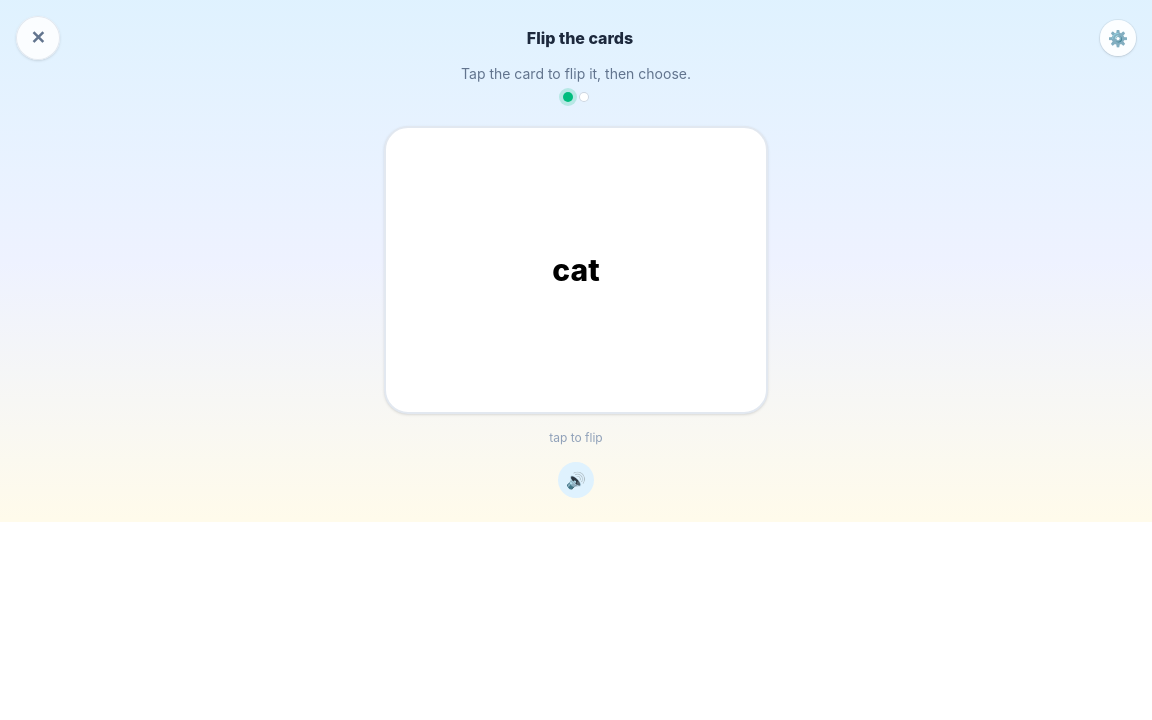
Test: FlashcardScreen › hides the grade row until the card is flipped
Check: the button "again" is not shown
Check: the button "got it" is not shown
// After flipping, both grade buttons appear.
Click the button with aria-label "flip": x=576, y=270 x1=384 y1=126 x2=768 y2=414
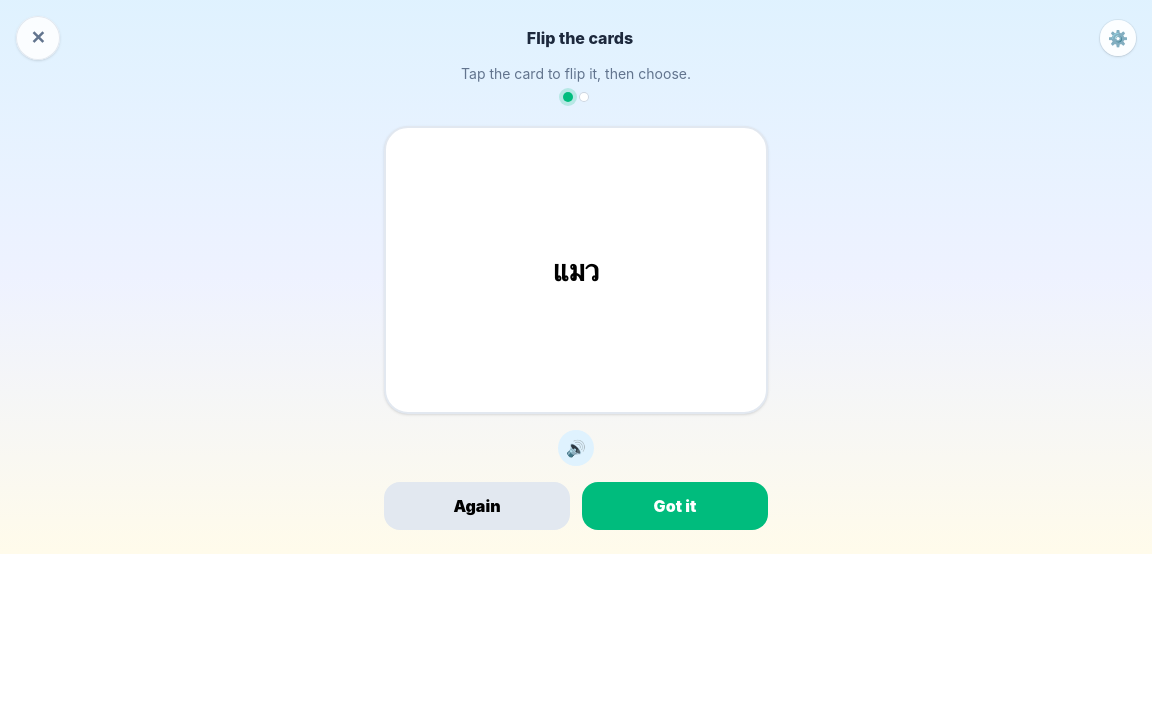
Check: the button "Again" is shown, box x1=384 y1=482 x2=570 y2=530
Check: the button "Got it" is shown, box x1=582 y1=482 x2=768 y2=530
